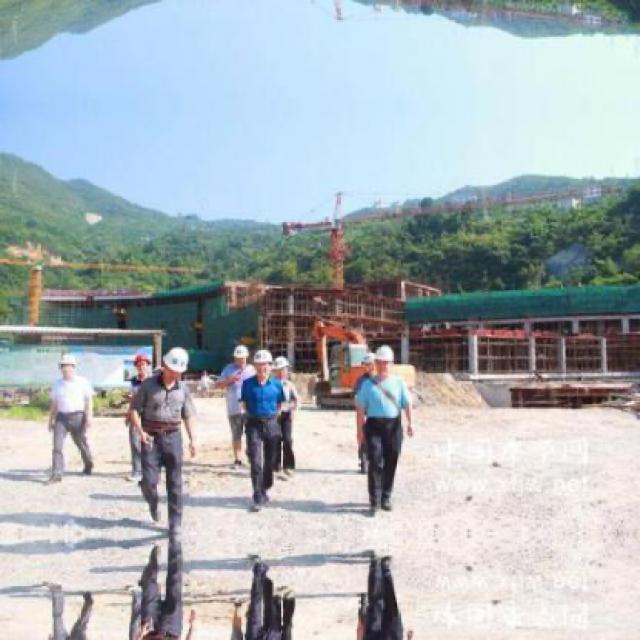helmet: (160, 344, 188, 385), (376, 344, 396, 378), (252, 347, 271, 379), (132, 353, 151, 378), (232, 341, 250, 367), (57, 353, 75, 378), (360, 354, 377, 379), (276, 355, 290, 384)
